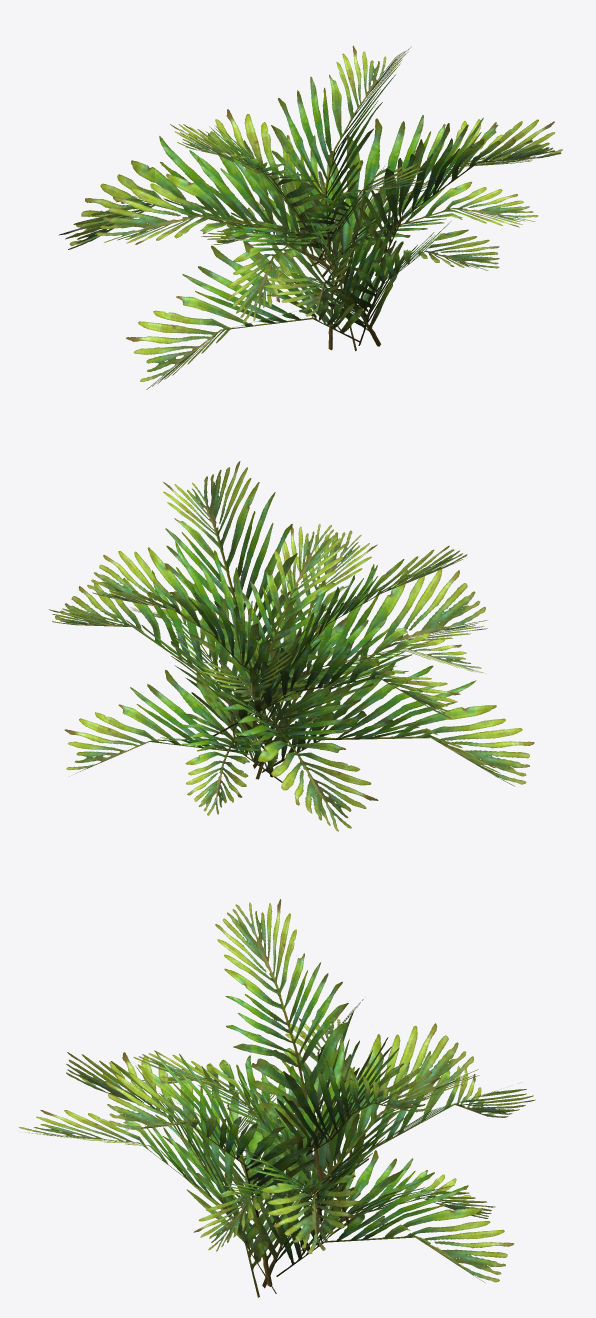
File: S_Plant_Green013.FBX
The picture shows the model from 3 angles, top to bottom: view 1: azimuth 30°, elevation 25°; view 2: azimuth 150°, elevation 25°; view 3: azimuth 270°, elevation 25°; orthographic projection. The views are drawn at different scales.
Parts seen in each view (by area): view 1: S_Plant_Green013; view 2: S_Plant_Green013; view 3: S_Plant_Green013.
Part boxes in pixels (x1,y1,x2,y2): S_Plant_Green013: (59, 45, 562, 389); S_Plant_Green013: (48, 461, 534, 831); S_Plant_Green013: (19, 899, 535, 1297).
Bounding box in the file's own units: 589 × 558 × 345.
